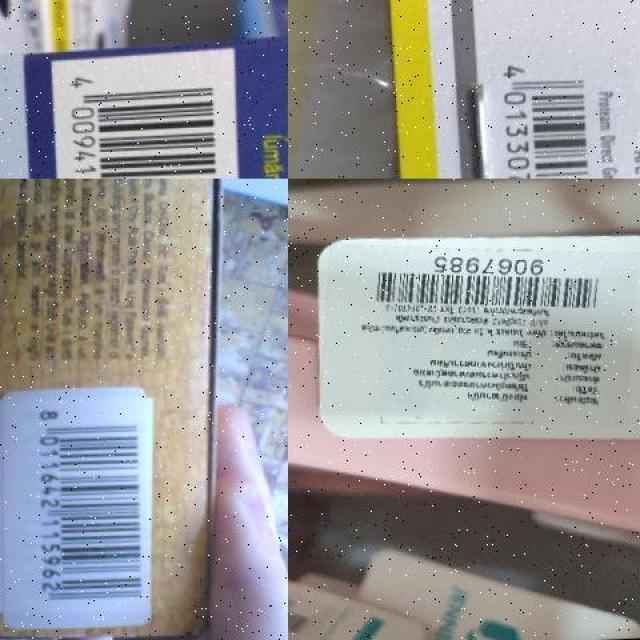Barcode: (0, 399, 151, 625), (49, 49, 243, 179), (359, 246, 617, 326), (491, 54, 601, 178)
